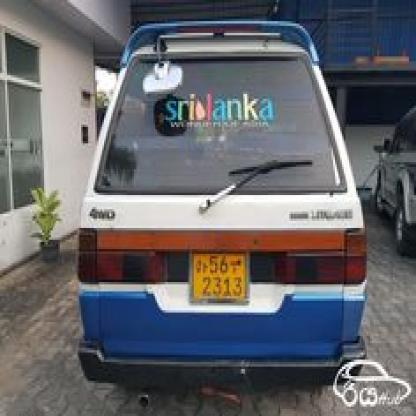number plate: (195, 252, 243, 296)
van back: (79, 21, 368, 394)
